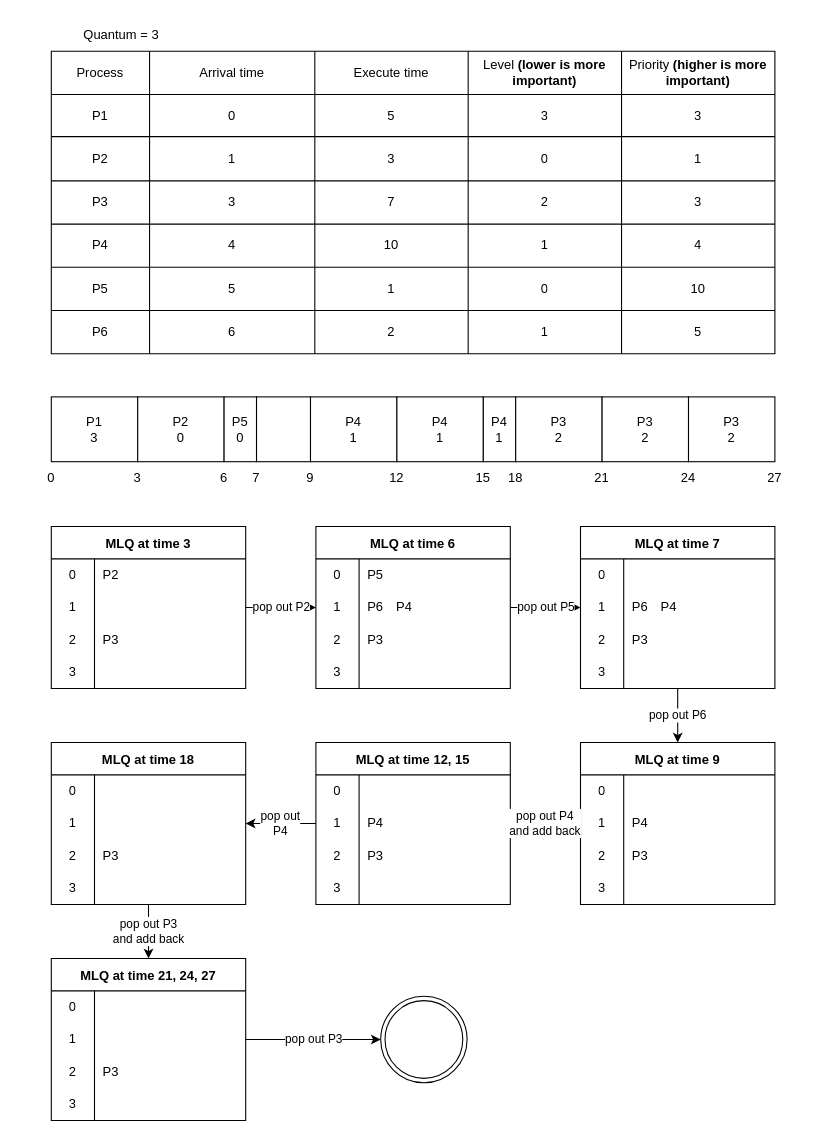
This 825x1139 diagram has some shape labels left out. Each missing label, with the centre of its shape:
CPU halt: the point at 423,1039
P6 1: the point at 282,429
